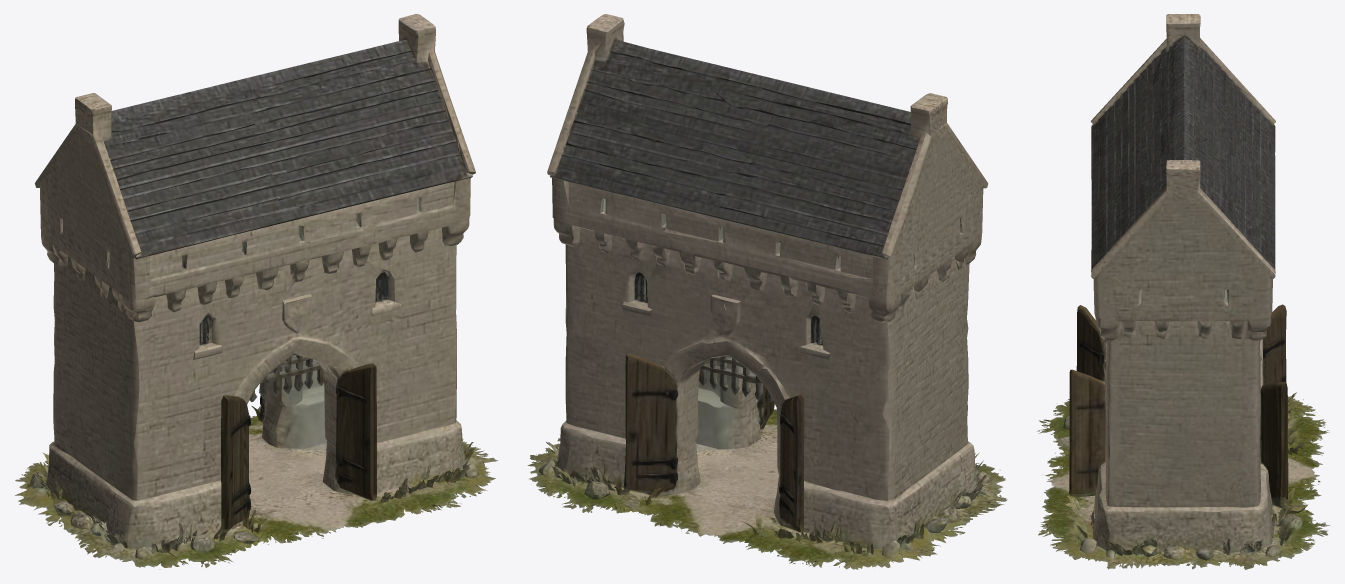
The model's file is gate_stone.glb.
The picture shows the model from 3 angles, left to right: view 1: azimuth 30°, elevation 25°; view 2: azimuth 150°, elevation 25°; view 3: azimuth 270°, elevation 25°; orthographic projection. The views are drawn at different scales.
Parts seen in each view (by area): view 1: gate_stone; view 2: gate_stone; view 3: gate_stone.
Part boxes in pixels (bbox=[...]): gate_stone: bbox=[15, 14, 498, 569]; gate_stone: bbox=[527, 14, 1007, 569]; gate_stone: bbox=[1037, 14, 1330, 569].
Bounding box in the file's own units: 1.89 × 1.86 × 1.28.
1 material, 1 textured.
